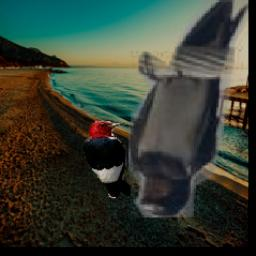Swallow: (129, 0, 249, 219)
Woodpecker: (81, 121, 131, 198)
